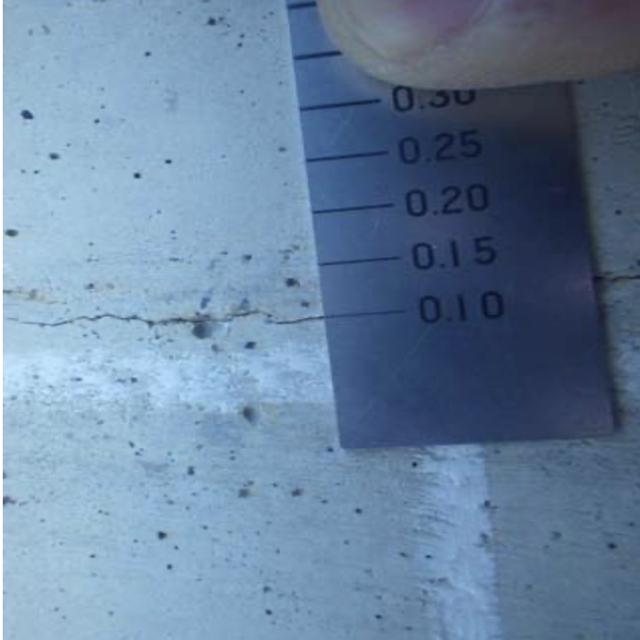crack: (9, 283, 332, 371)
